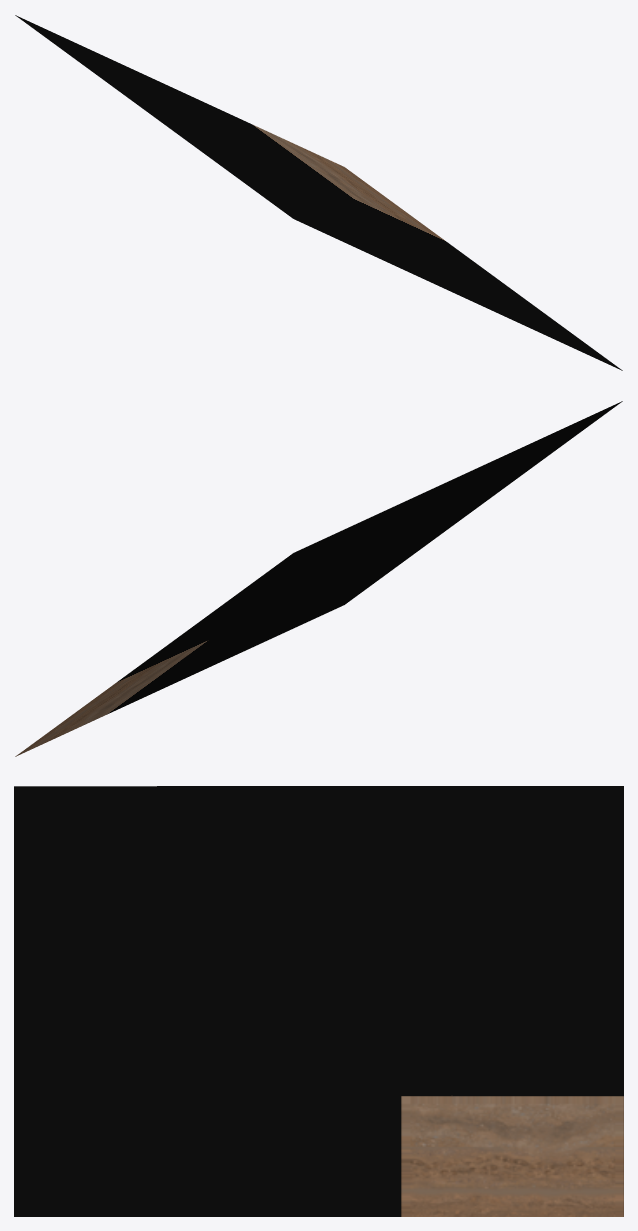
File: SM_Terrain_Road_Hills_Decal_ConcreteBroken_01_02_ATLAS.fbx
The picture shows the model from 3 angles, top to bottom: view 1: azimuth 30°, elevation 25°; view 2: azimuth 150°, elevation 25°; view 3: azimuth 270°, elevation 25°; orthographic projection. The views are drawn at different scales.
Parts seen in each view (by area): view 1: SM_Terrain_Road_Hills_Decal_ConcreteBroken_01_02_ATLAS_LOD0; view 2: SM_Terrain_Road_Hills_Decal_ConcreteBroken_01_02_ATLAS_LOD0; view 3: SM_Terrain_Road_Hills_Decal_ConcreteBroken_01_02_ATLAS_LOD0.
Boxes of the visible parts, x1,y1,x2,y2 form: SM_Terrain_Road_Hills_Decal_ConcreteBroken_01_02_ATLAS_LOD0: [15, 15, 622, 370]; SM_Terrain_Road_Hills_Decal_ConcreteBroken_01_02_ATLAS_LOD0: [15, 401, 622, 756]; SM_Terrain_Road_Hills_Decal_ConcreteBroken_01_02_ATLAS_LOD0: [14, 786, 623, 1216].
Size of the model in its own units: 175 by 256 by 118.
